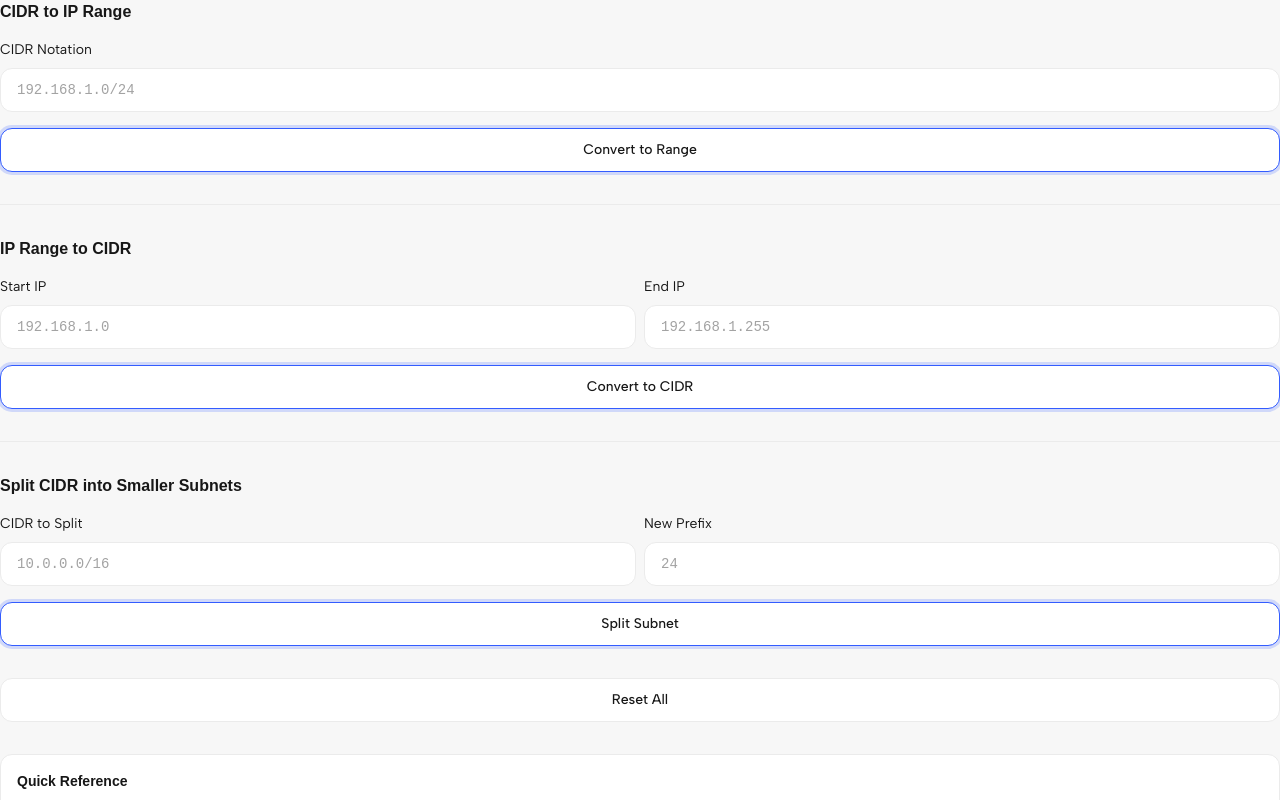
CidrCalculatorTool › handles /8 CIDR block
In the field with placeholder "192.168.1.0/24": (640, 90) [0,68,1279,112], type "10.0.0.0/8"
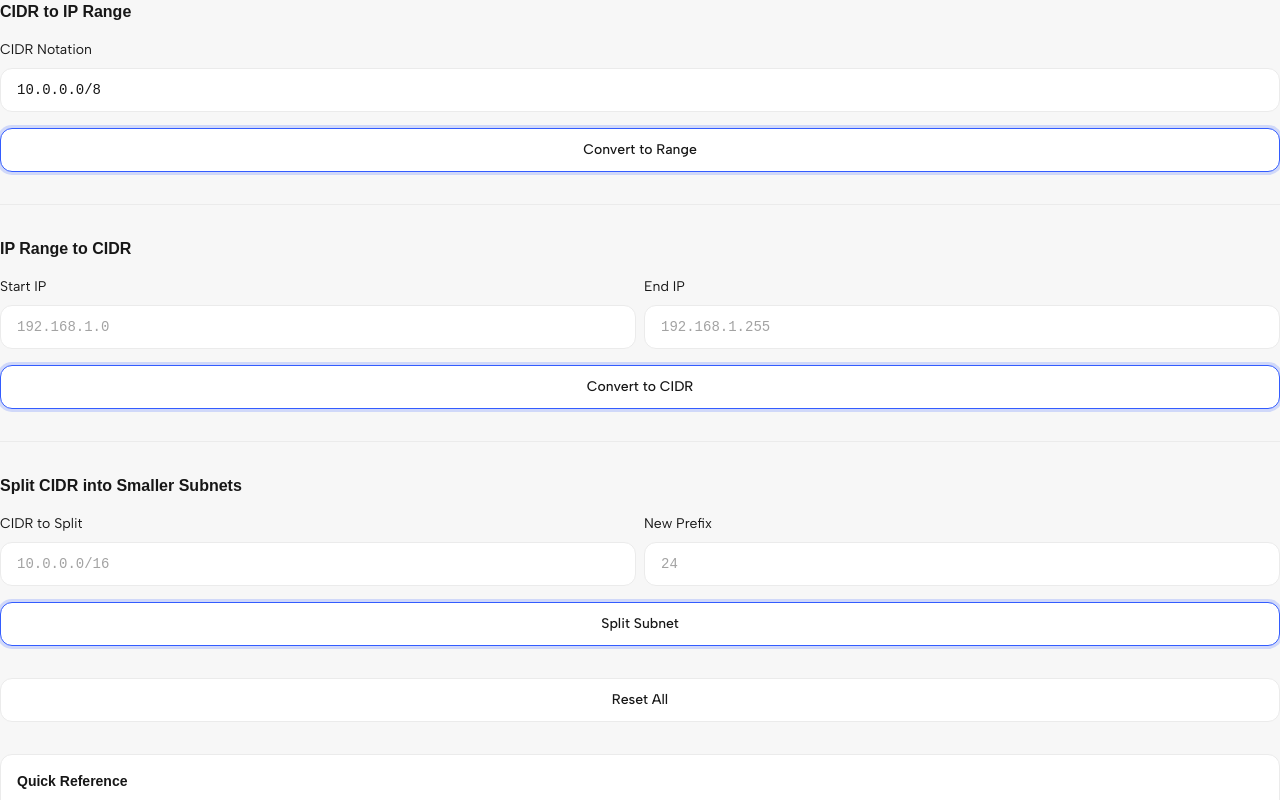
Click the button "Convert to Range": click(640, 150) [0,128,1279,172]
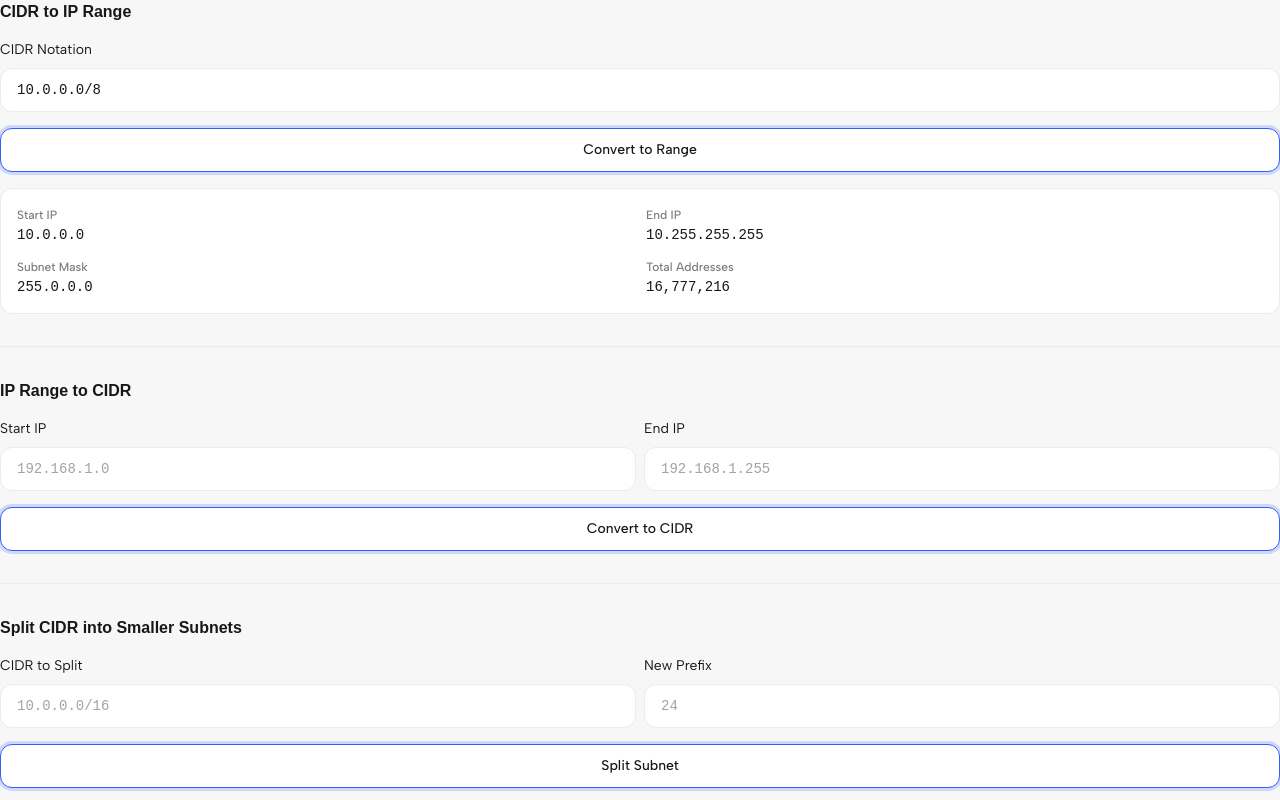
Result: the text "10.0.0.0" is shown at [17,227,84,243]
Result: the text "10.255.255.255" is shown at [646,227,764,243]
Result: the text "255.0.0.0" is shown at [17,279,93,295]
